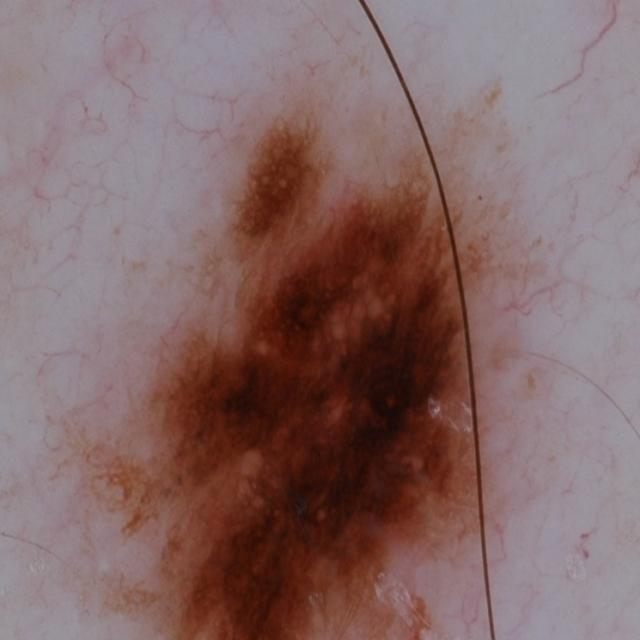Melanoma: (60, 98, 562, 640)
